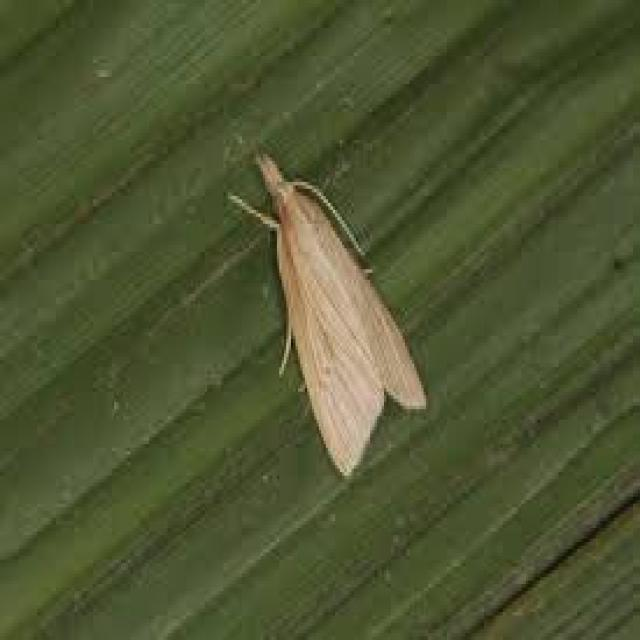yellow-stem-borer: (206, 123, 452, 488)
